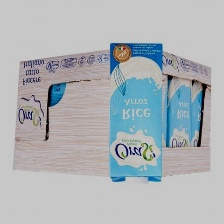carton: (104, 38, 169, 186)
